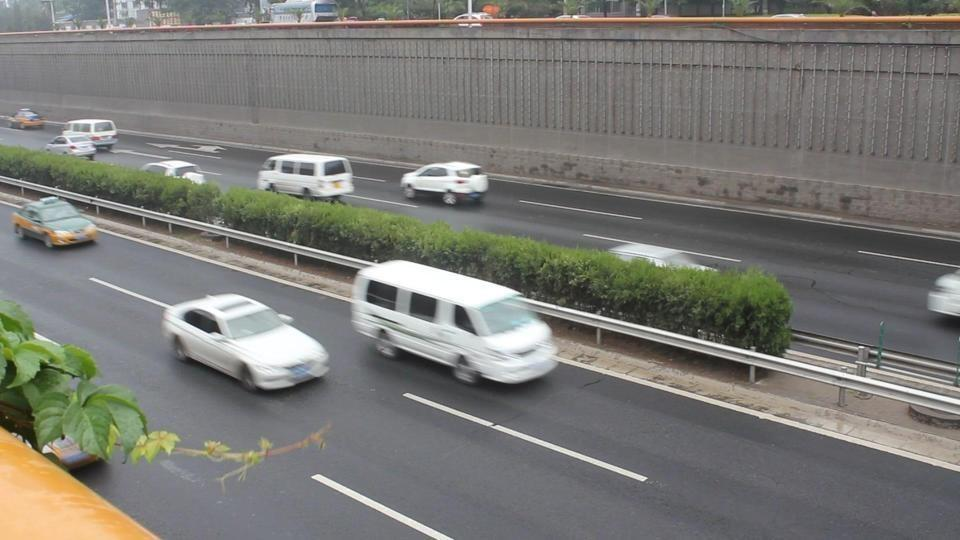car: (354, 259, 559, 386), (162, 293, 329, 393), (257, 153, 355, 202), (11, 195, 98, 249), (400, 161, 488, 206), (39, 433, 101, 473), (61, 119, 119, 151), (927, 270, 960, 320), (140, 159, 206, 182), (43, 135, 99, 160), (7, 107, 47, 128)
